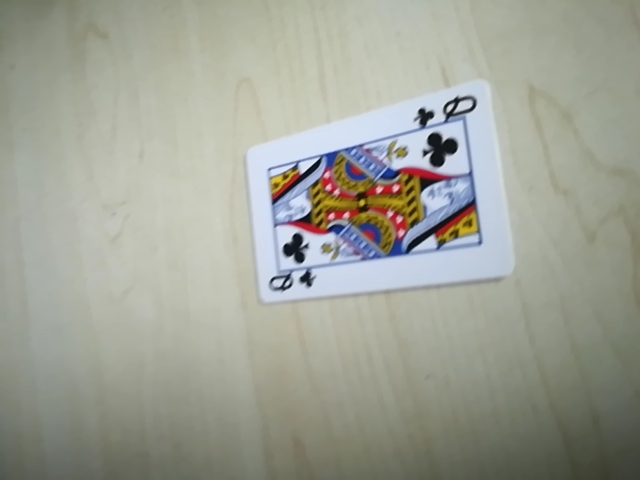mh q: (414, 90, 482, 129), (265, 258, 319, 299)
